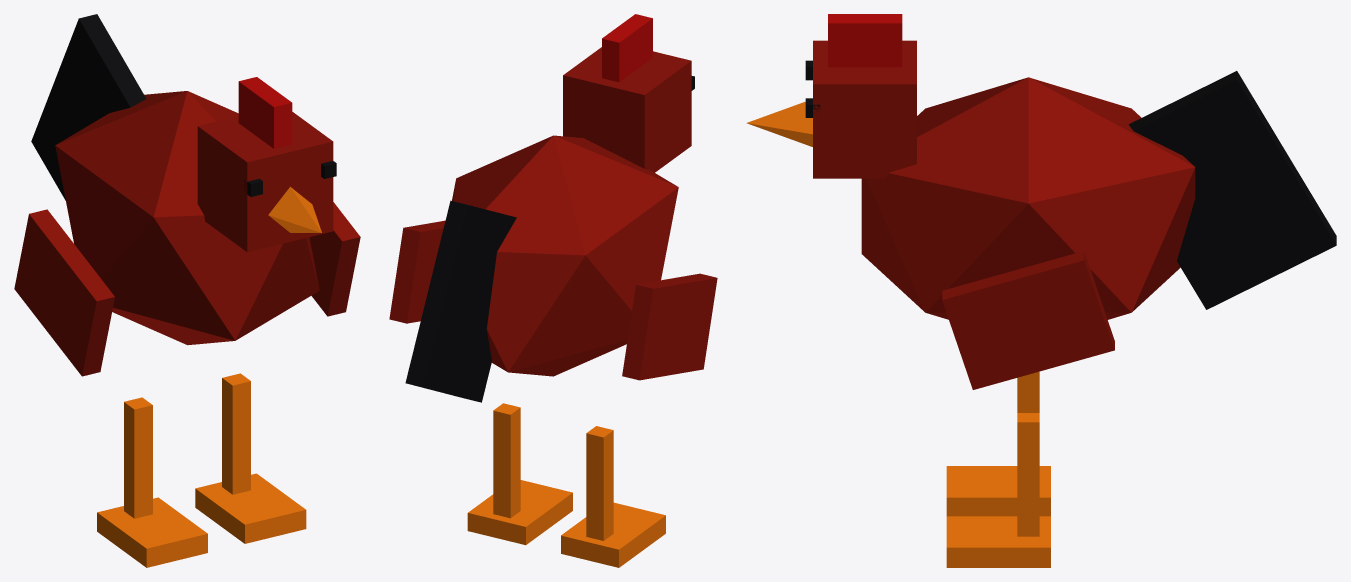
Rendered from rooster.obj.
3 renders of one model, left to right at view 1: azimuth 30°, elevation 25°; view 2: azimuth 150°, elevation 25°; view 3: azimuth 270°, elevation 25°, orthographic. The views are drawn at different scales.
Parts seen in each view (by area): view 1: rooster; view 2: rooster; view 3: rooster.
Boxes of the visible parts, x1,y1,x2,y2 form: rooster: (14,14,360,567); rooster: (389,14,717,567); rooster: (746,14,1336,567).
Size of the model in its own units: 0.516 by 0.906 by 0.9539.
